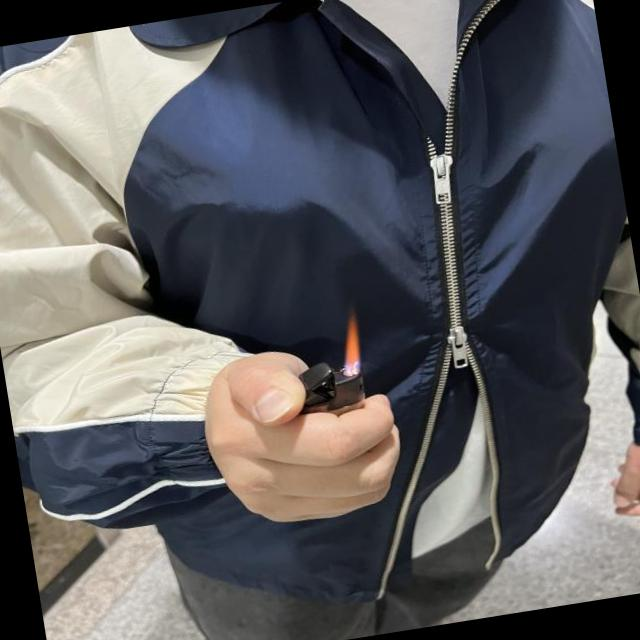Fire: (331, 310, 367, 371)
